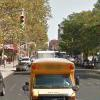Bus: (24, 55, 84, 100)
